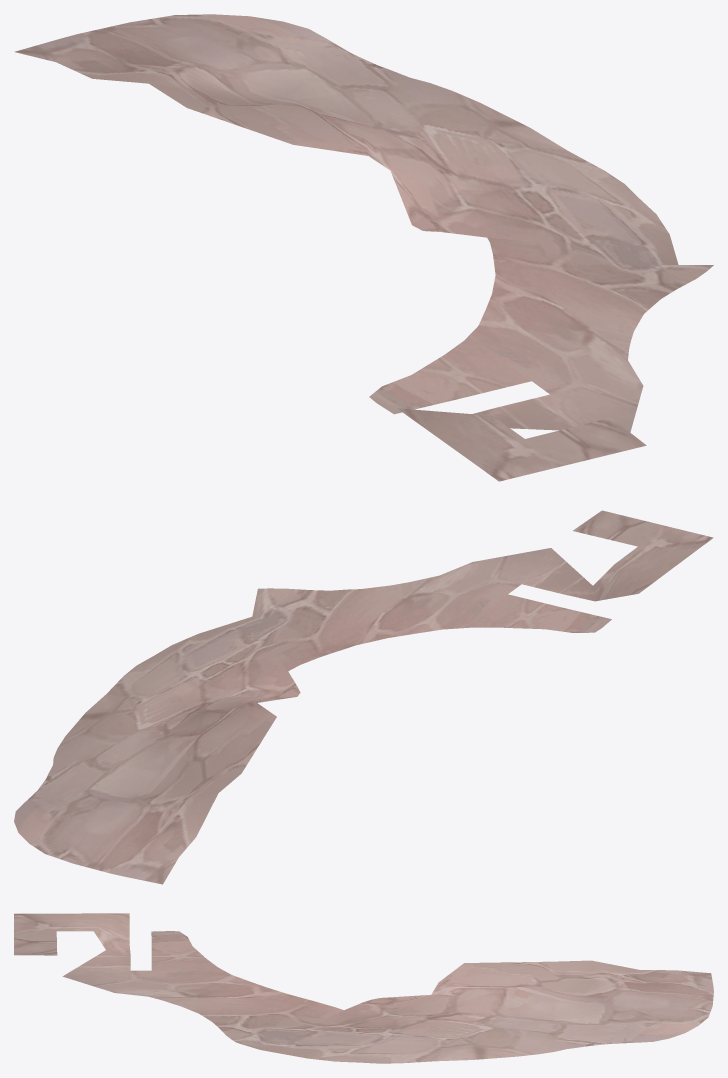
File: wenquan_db_01.FBX
3 views of the same model, one above another, from view 1: azimuth 30°, elevation 25°; view 2: azimuth 150°, elevation 25°; view 3: azimuth 270°, elevation 25° (orthographic). The views are drawn at different scales.
Parts seen in each view (by area): view 1: wenquan_db_01; view 2: wenquan_db_01; view 3: wenquan_db_01.
Part boxes in pixels (box(x1,y1,x2,y2)): wenquan_db_01: box(14, 14, 713, 481); wenquan_db_01: box(14, 510, 713, 884); wenquan_db_01: box(14, 913, 713, 1063).
Bounding box in the file's own units: 4661 × 488 × 11027.
